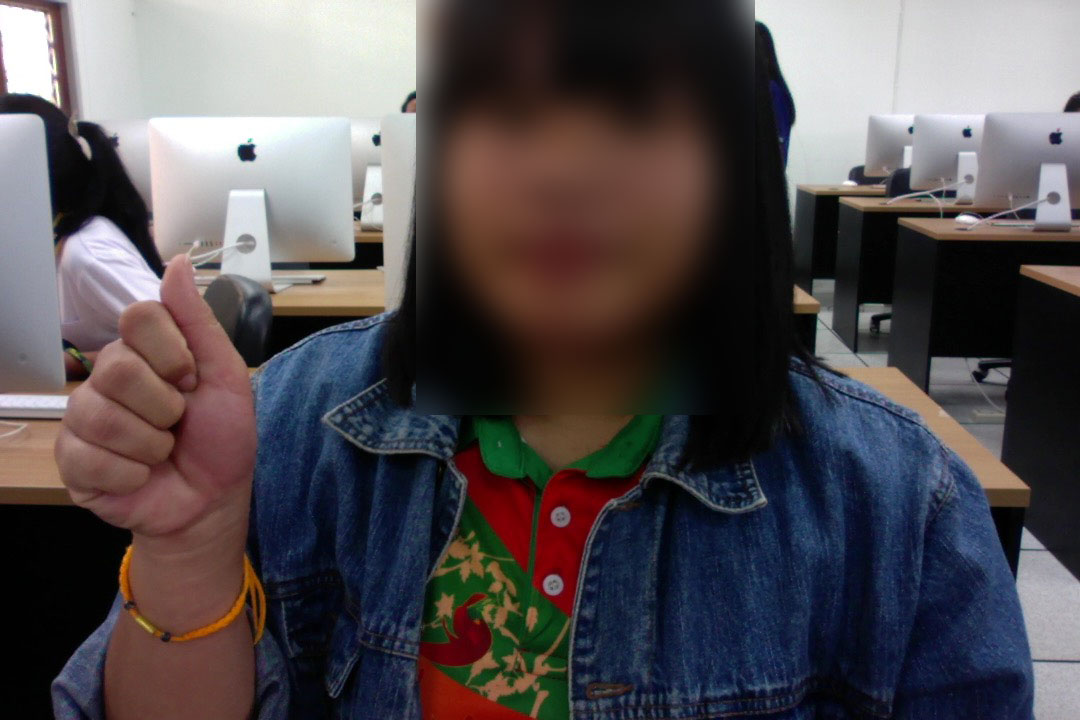or: (46, 245, 286, 572)
